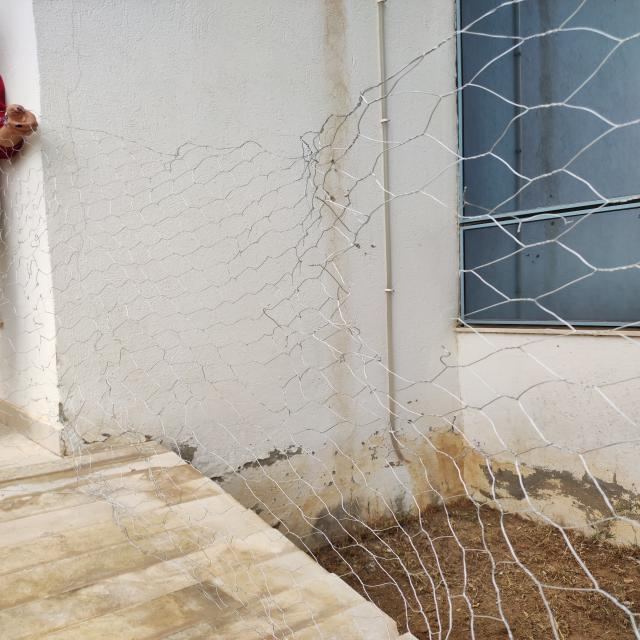fence line: (325, 206, 479, 374)
